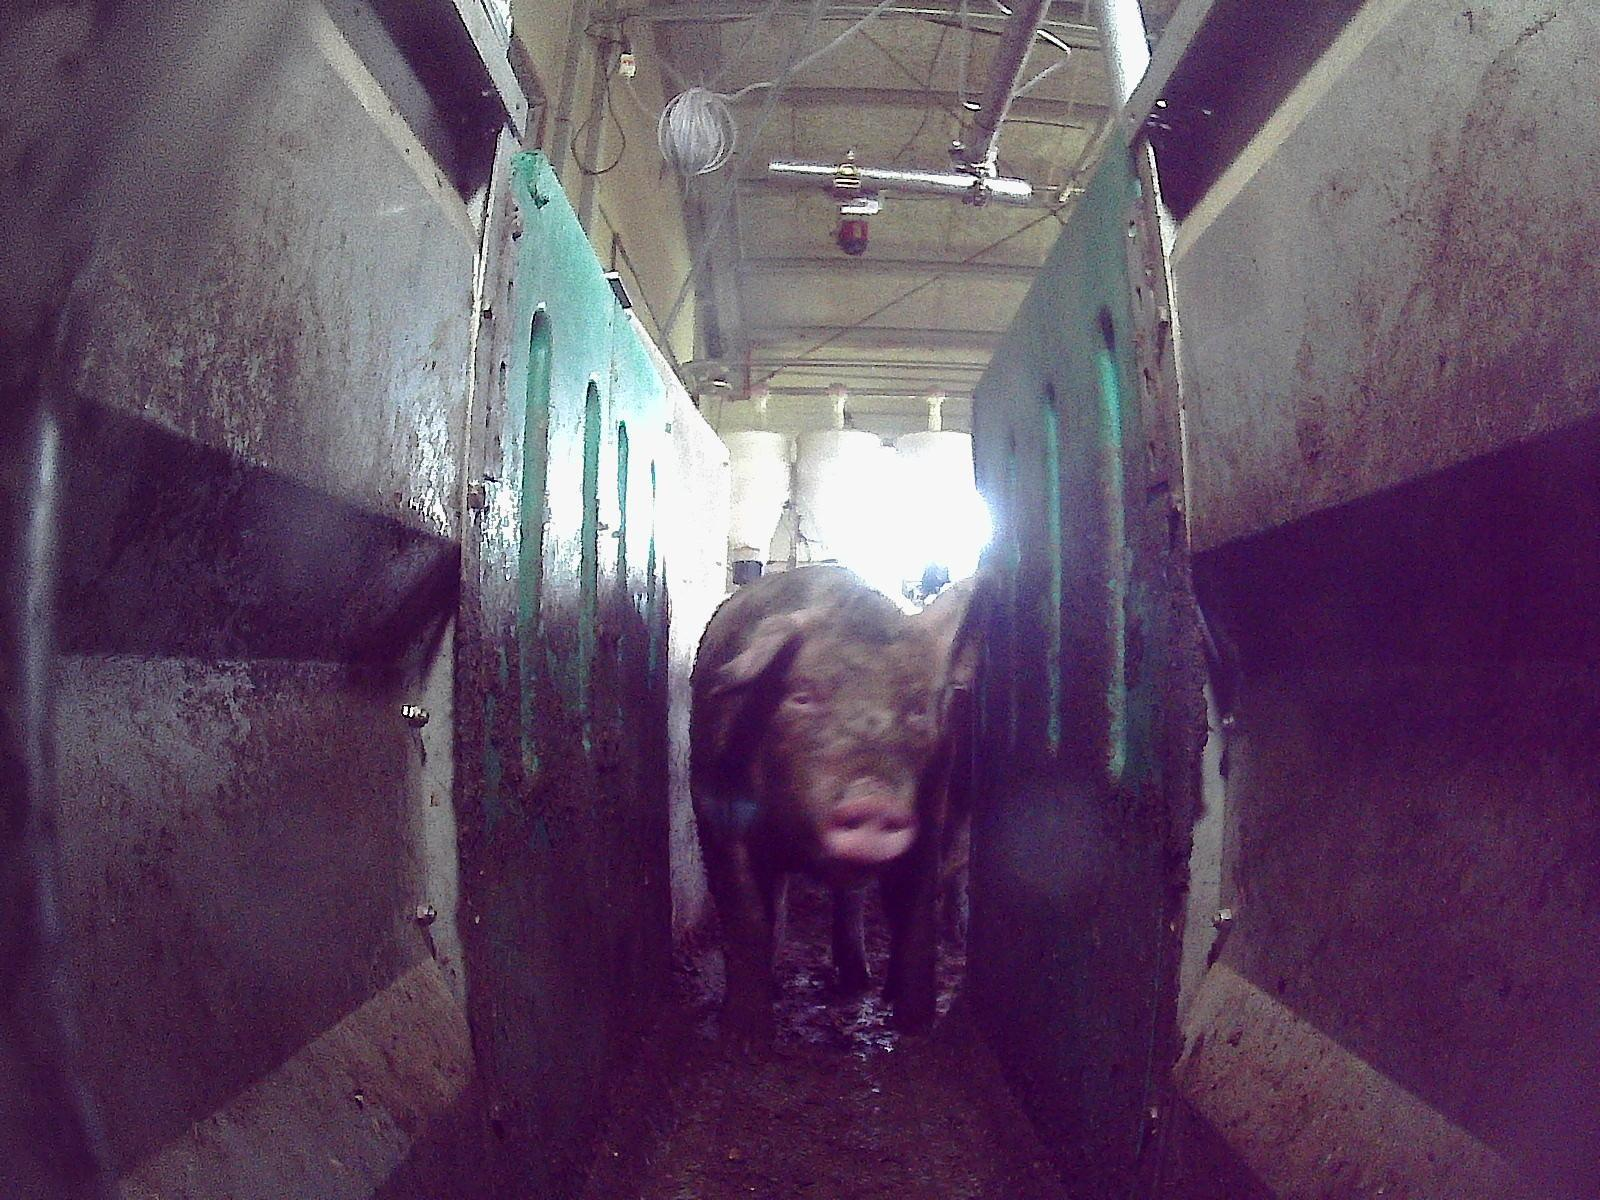Face: (767, 630, 943, 866)
